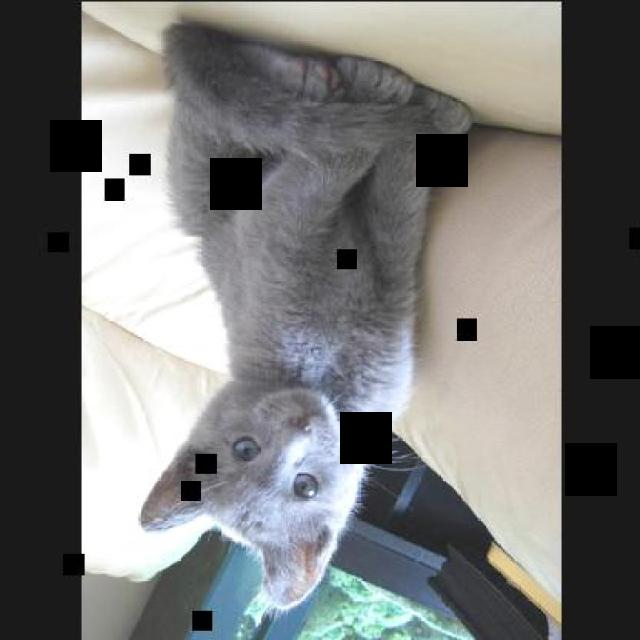unauthorized: (137, 14, 474, 612)
